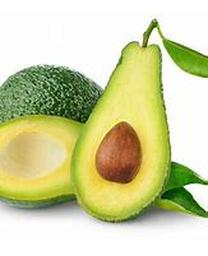avocado: (69, 41, 172, 223), (1, 113, 180, 209)
